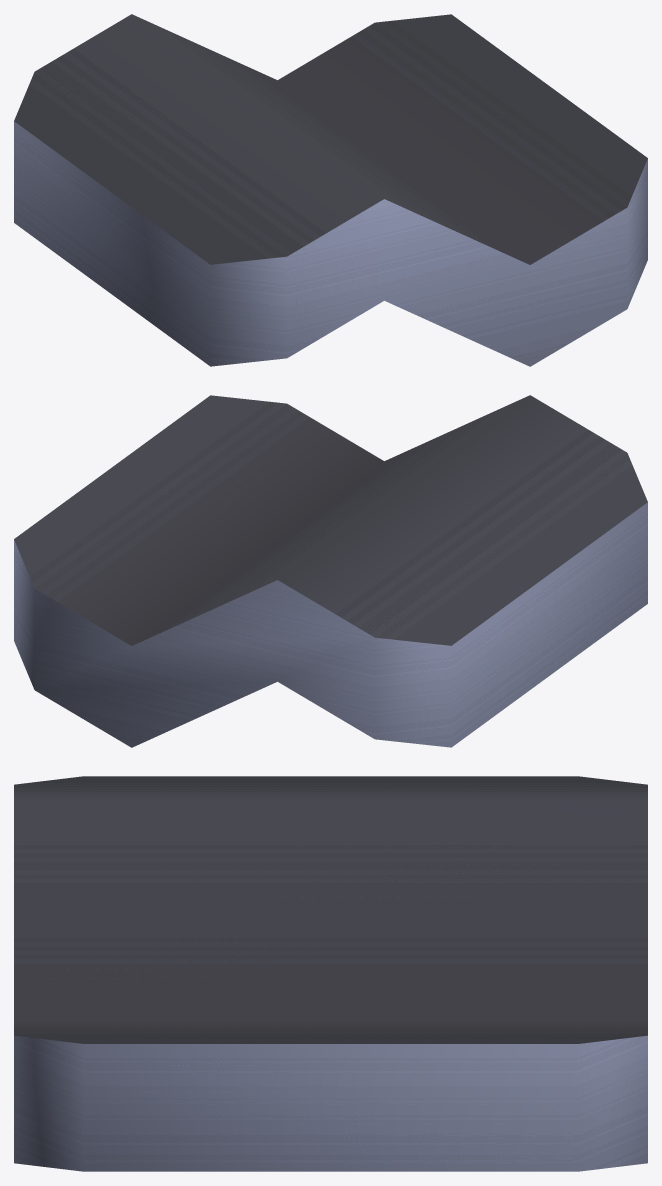
Rendered from debris-plate-small-b.glb.
3 views of the same model, one above another, from view 1: azimuth 30°, elevation 25°; view 2: azimuth 150°, elevation 25°; view 3: azimuth 270°, elevation 25° (orthographic). The views are drawn at different scales.
Parts seen in each view (by area): view 1: debris-plate-small-b; view 2: debris-plate-small-b; view 3: debris-plate-small-b.
Part boxes in pixels (bbox=[...]): debris-plate-small-b: bbox=[14, 14, 647, 366]; debris-plate-small-b: bbox=[14, 395, 647, 747]; debris-plate-small-b: bbox=[14, 776, 647, 1171].
Bounding box in the file's own units: 0.45 × 0.2 × 0.45.
1 material, 1 textured.
